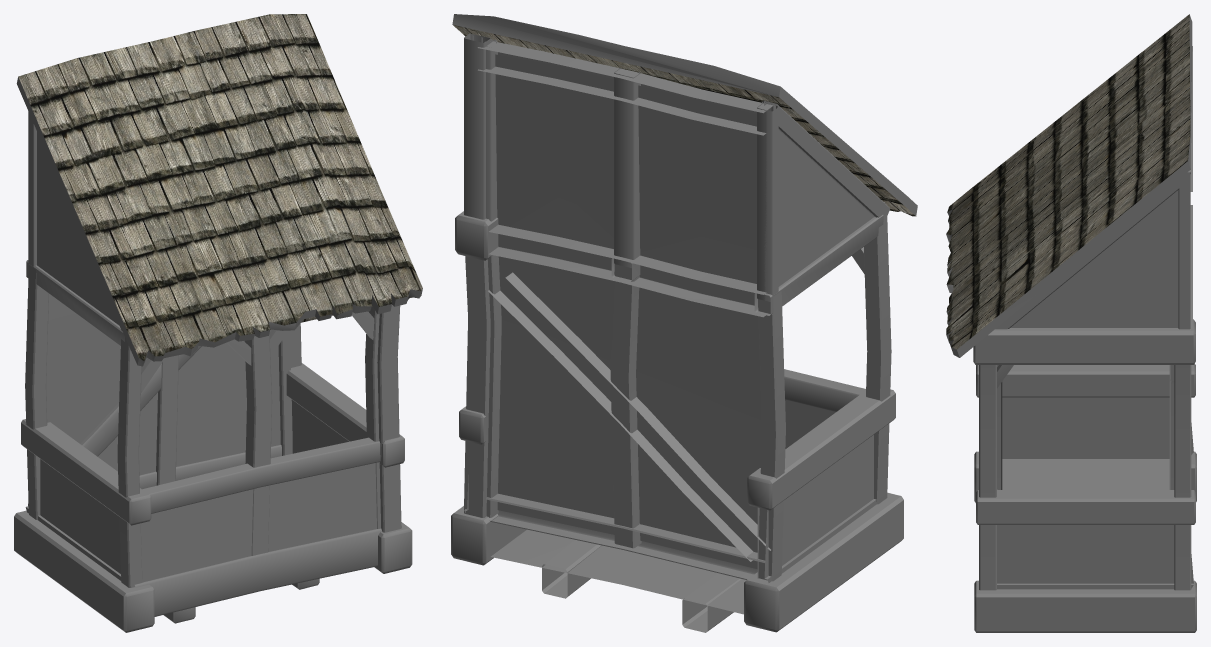
File: balcony_2.fbx
The picture shows the model from 3 angles, left to right: view 1: azimuth 30°, elevation 25°; view 2: azimuth 150°, elevation 25°; view 3: azimuth 270°, elevation 25°; orthographic projection. The views are drawn at different scales.
Visible parts, largest first — view 1: Mesh; view 2: Mesh; view 3: Mesh.
Part boxes in pixels (left/top/right/bottom): Mesh: left=14, top=14, right=422, bottom=632; Mesh: left=451, top=14, right=917, bottom=632; Mesh: left=946, top=14, right=1196, bottom=632.
Size of the model in its own units: 380 by 629 by 286.
